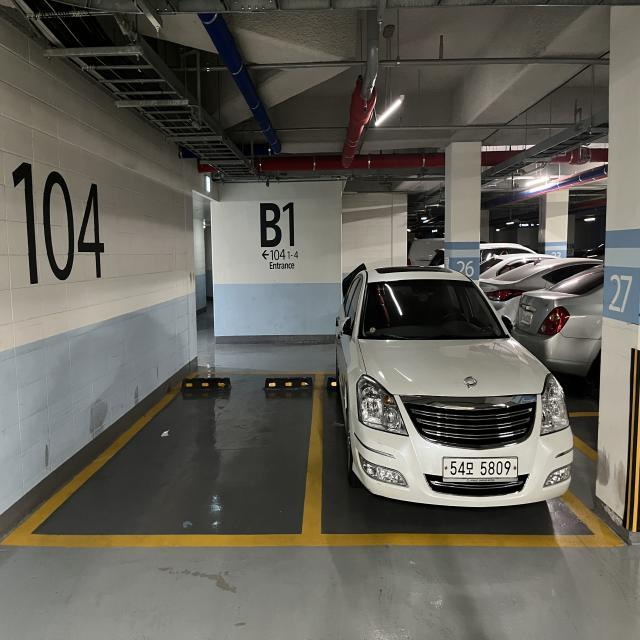empty: (13, 365, 321, 542)
occupied: (324, 260, 599, 556)
